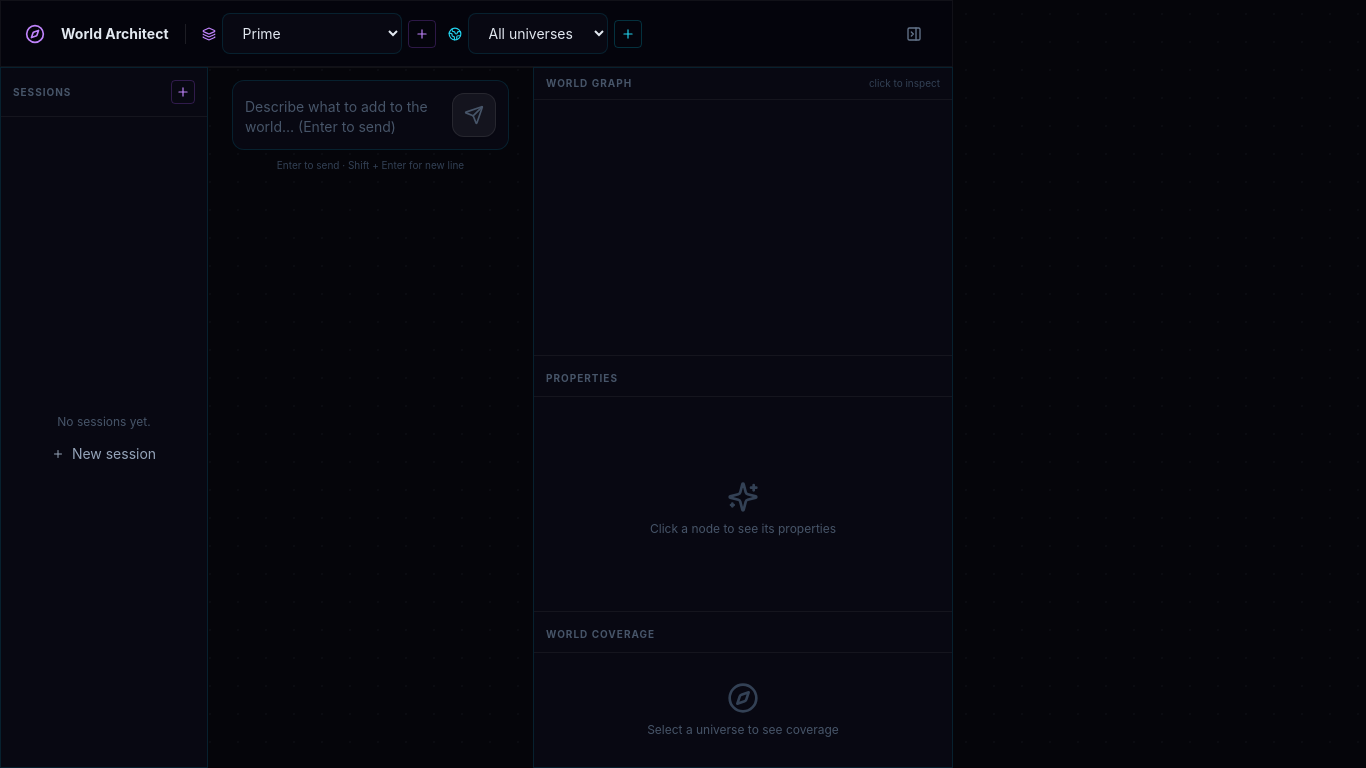
Scenario: Architect page — gap-driven building (F2-1) › invalidates the coverage query when an architect turn settles
This screenshot has width=1366, height=768.
Select "Aethoria" in the 2nd dropdown showing "All universes" at (538,34), box [468,13,608,54]
(page scrolled)
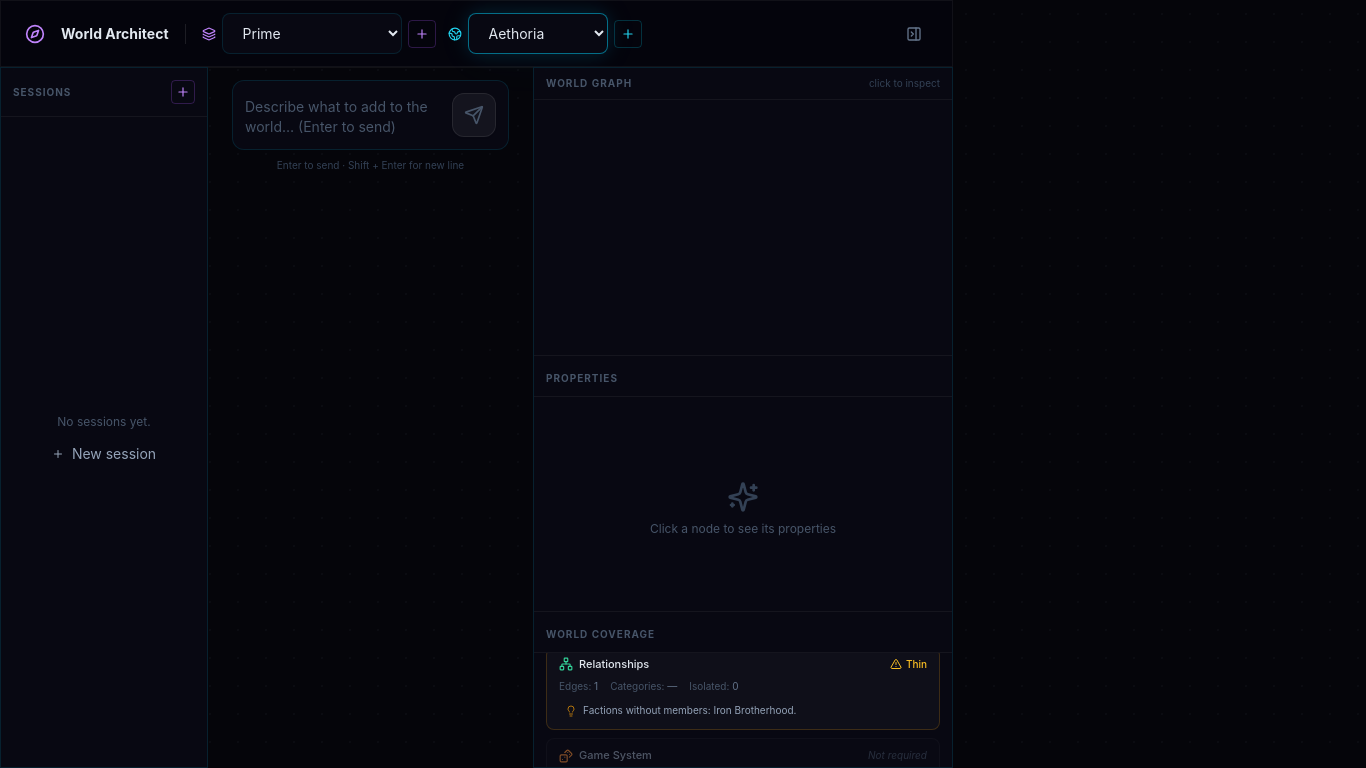
Now the text "Factions without members: Iron Brotherhood." is shown, box [583,704,796,717]
